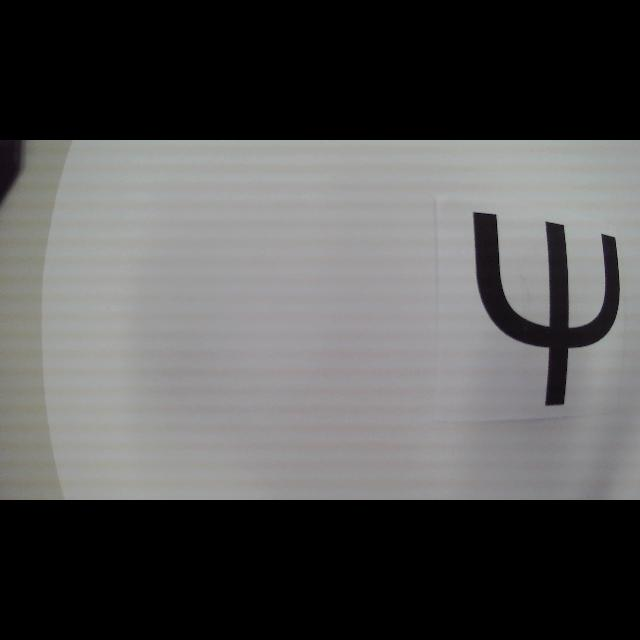PSI: (473, 211, 621, 407)
